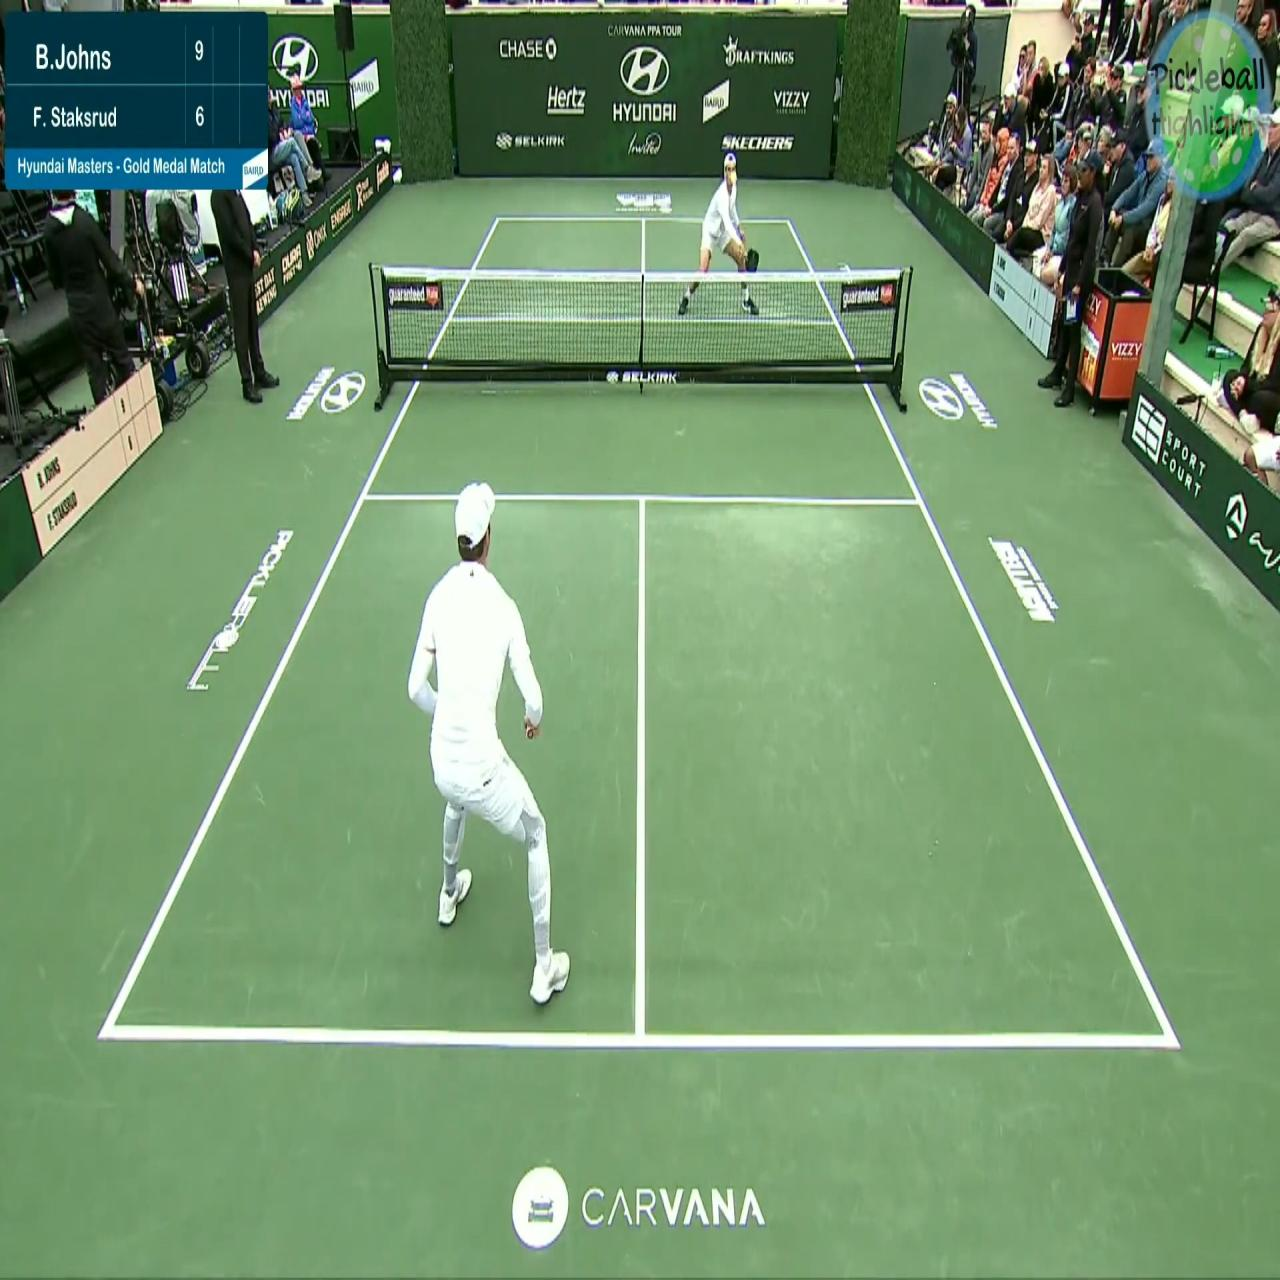pickleball: (730, 171, 736, 182)
